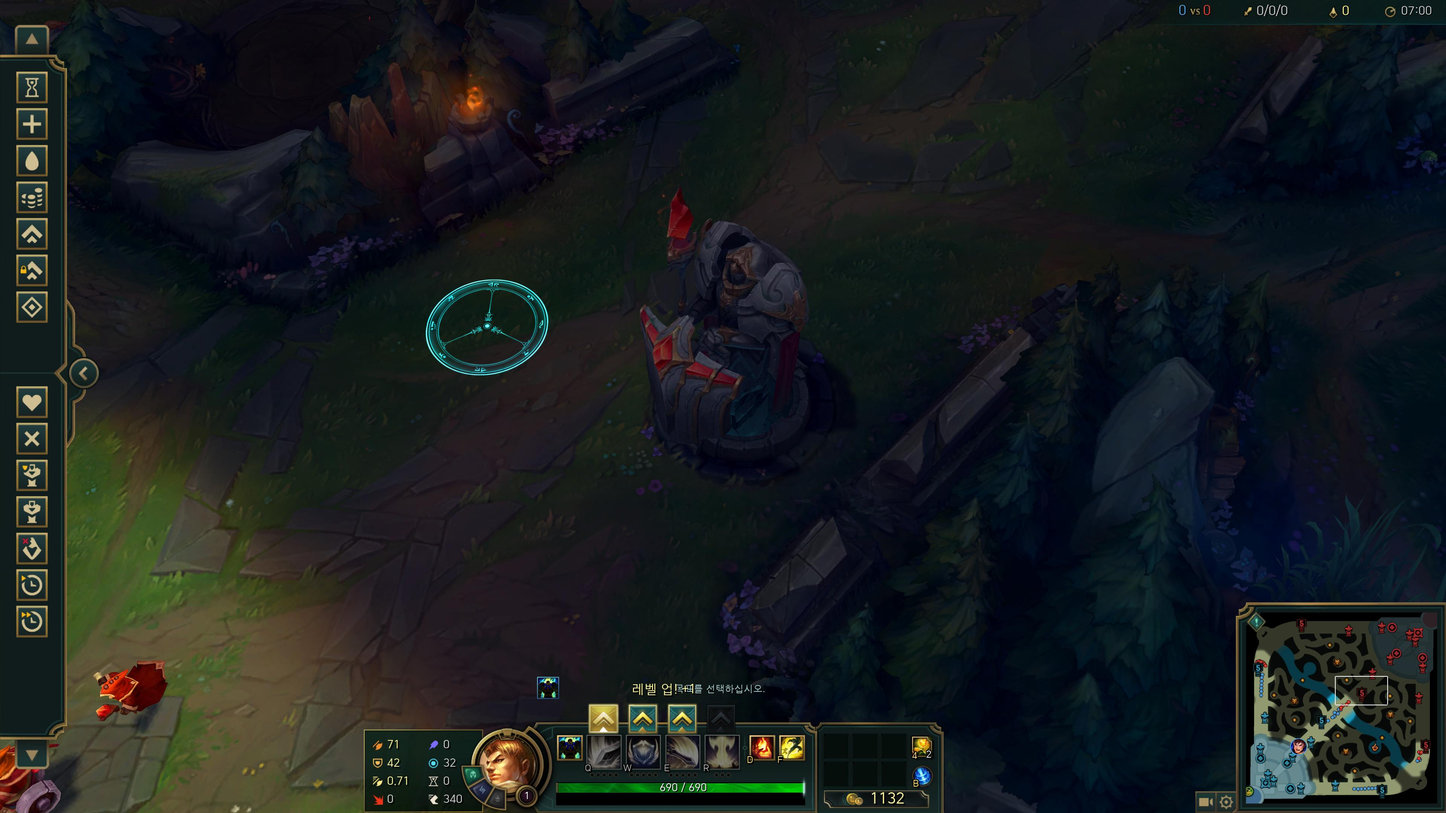enemy-caster-minion: (96, 659, 169, 721)
enemy-tower: (639, 186, 835, 483)
